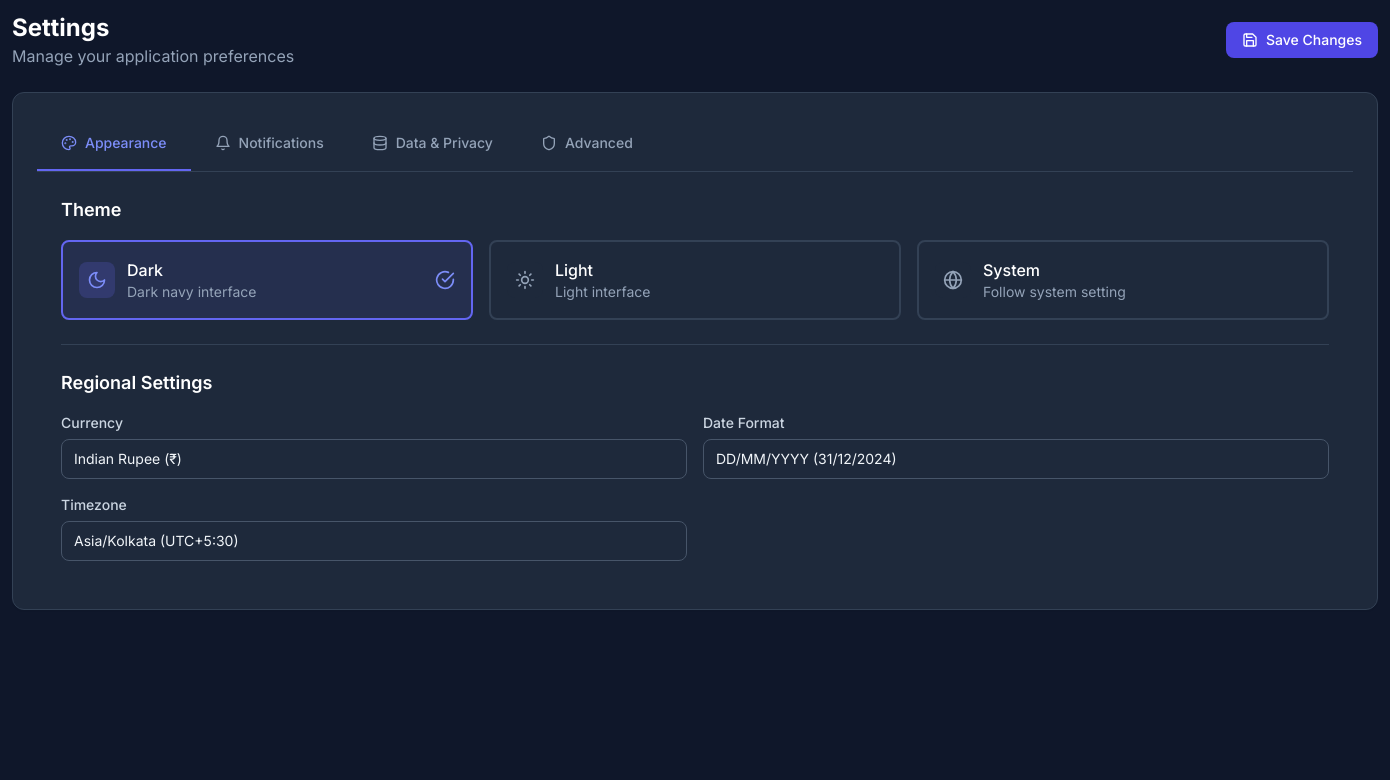
Scenario: Settings Page › switches to the advanced tab
Click the tab "Advanced" at point(587, 144), box [517,117,657,171]
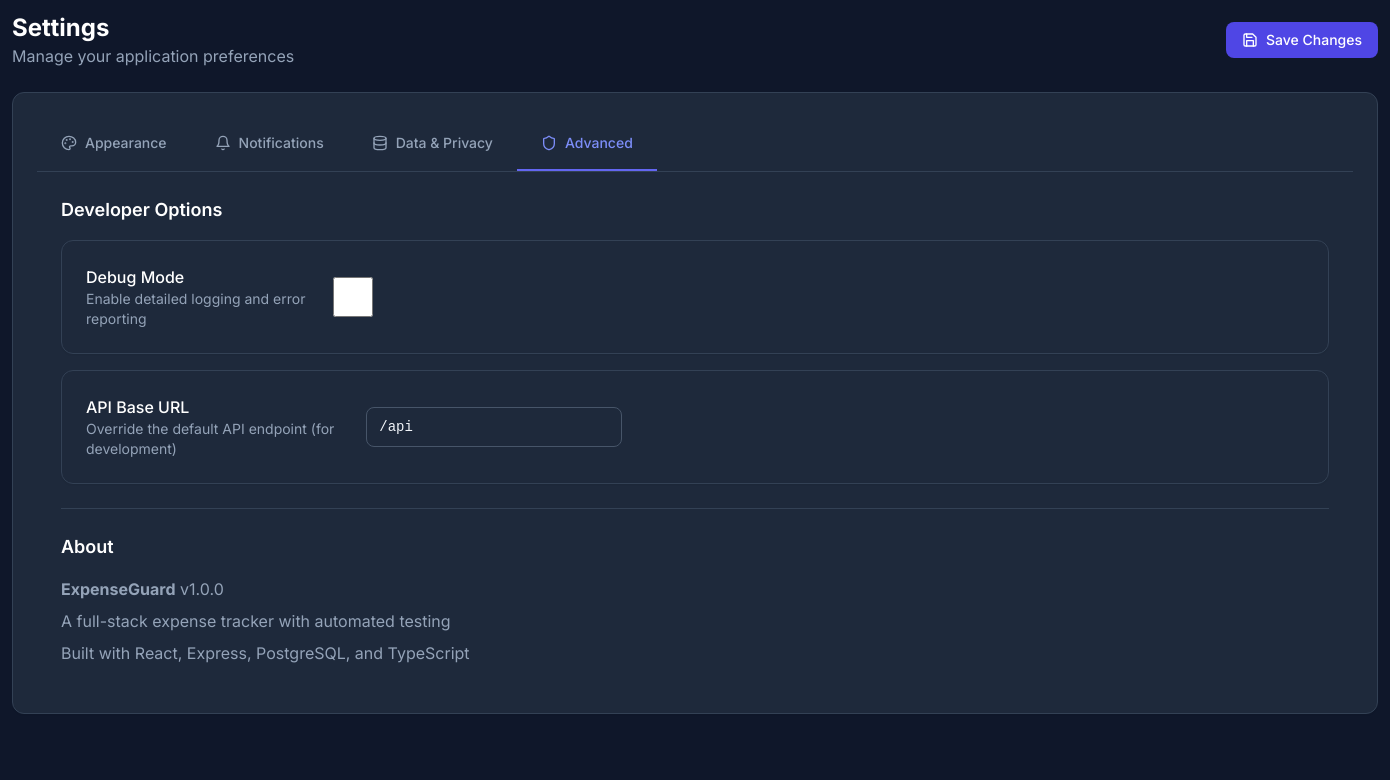
Expected: the heading "Developer Options" is shown, [61,199,222,220]
Expected: the field showing "/api" is shown, [366,407,622,447]
Expected: the heading "About" is shown, [61,536,114,557]
